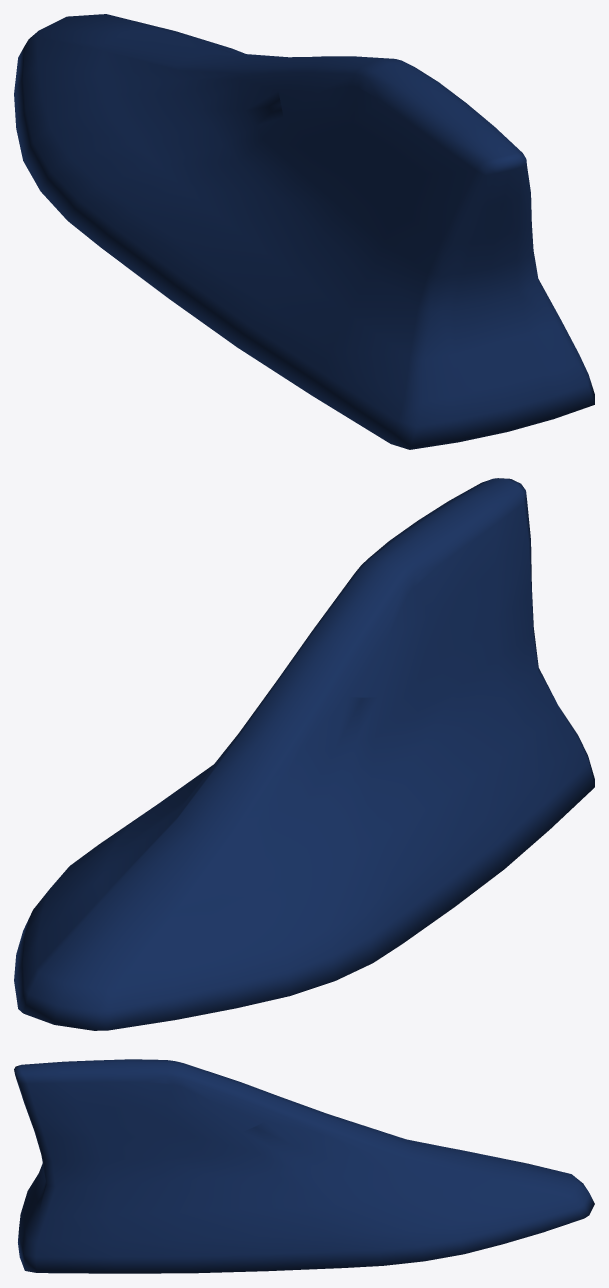
File: Antenna.glb
3 renders of one model, top to bottom at view 1: azimuth 30°, elevation 25°; view 2: azimuth 150°, elevation 25°; view 3: azimuth 270°, elevation 25°, orthographic. The views are drawn at different scales.
Parts seen in each view (by area): view 1: Antenna; view 2: Antenna; view 3: Antenna.
Part boxes in pixels (bbox=[...]): Antenna: bbox=[14, 14, 594, 449]; Antenna: bbox=[14, 478, 594, 1030]; Antenna: bbox=[14, 1059, 594, 1273].
Bounding box in the file's own units: 0.0669 × 0.0595 × 0.1732.
